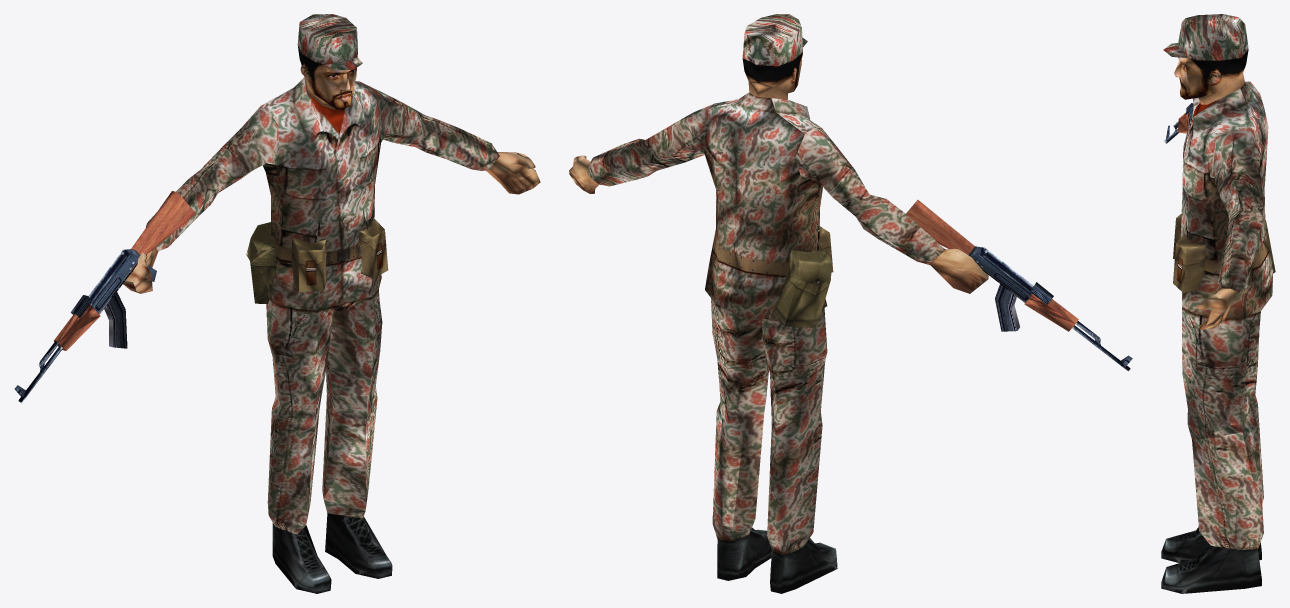
The model's file is IRST1.glb.
3 renders of one model, left to right at view 1: azimuth 30°, elevation 25°; view 2: azimuth 150°, elevation 25°; view 3: azimuth 270°, elevation 25°, orthographic.
Visible parts, largest first — view 1: _IRST1; view 2: _IRST1; view 3: _IRST1.
Boxes of the visible parts, x1,y1,x2,y2 form: _IRST1: (14, 14, 540, 593); _IRST1: (569, 14, 1132, 593); _IRST1: (1161, 14, 1275, 593).
Size of the model in its own units: 2.11 by 2.02 by 0.3813.
1 material, 1 textured.
